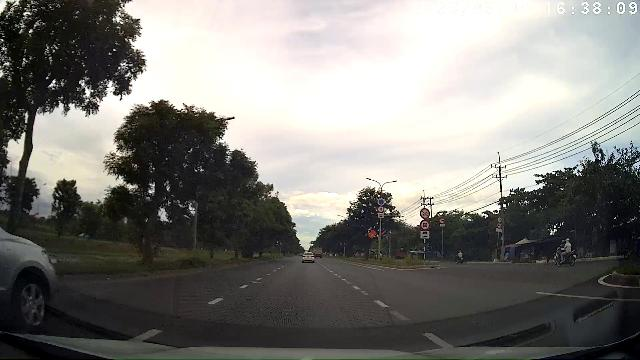127-toc-do-toi-da-60: (420, 220, 430, 230)
